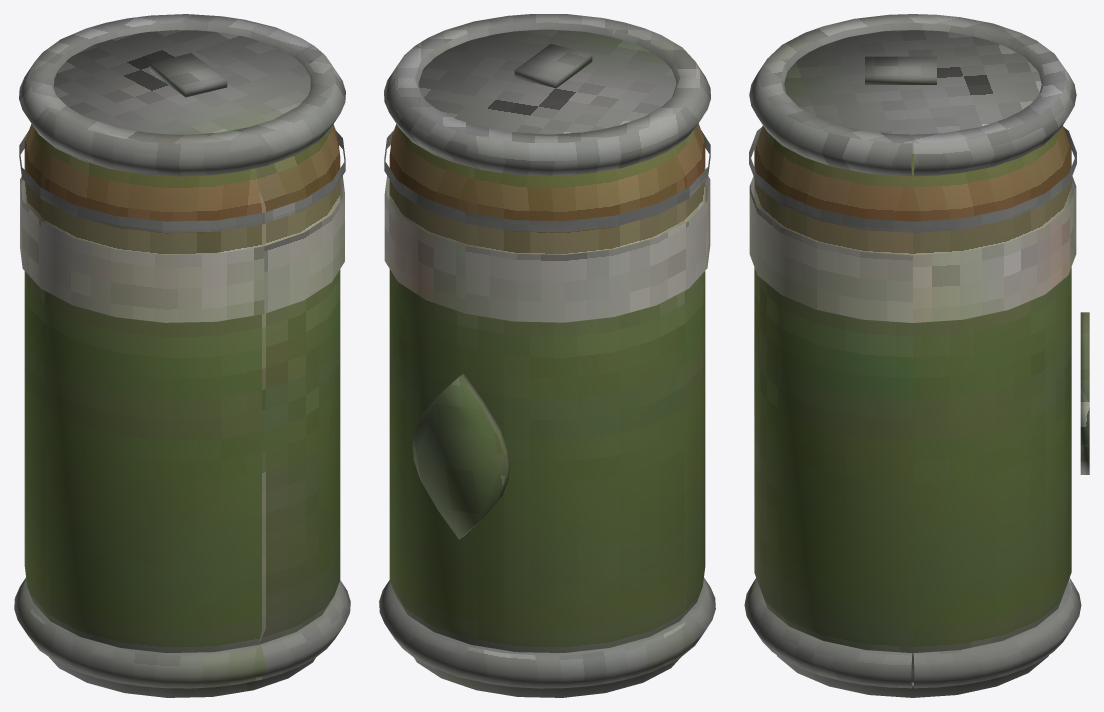
File: can_tea.glb
The picture shows the model from 3 angles, left to right: view 1: azimuth 30°, elevation 25°; view 2: azimuth 150°, elevation 25°; view 3: azimuth 270°, elevation 25°; orthographic projection.
Visible parts, largest first — view 1: prop_can_tea_felt; view 2: prop_can_tea_felt; view 3: prop_can_tea_felt.
Boxes of the visible parts, box(x1,y1,x2,y2) form: prop_can_tea_felt: box(14, 14, 350, 697); prop_can_tea_felt: box(379, 14, 715, 697); prop_can_tea_felt: box(744, 14, 1089, 697).
Bounding box in the file's own units: 0.0844 × 0.1579 × 0.0865.
1 material, 1 textured.
